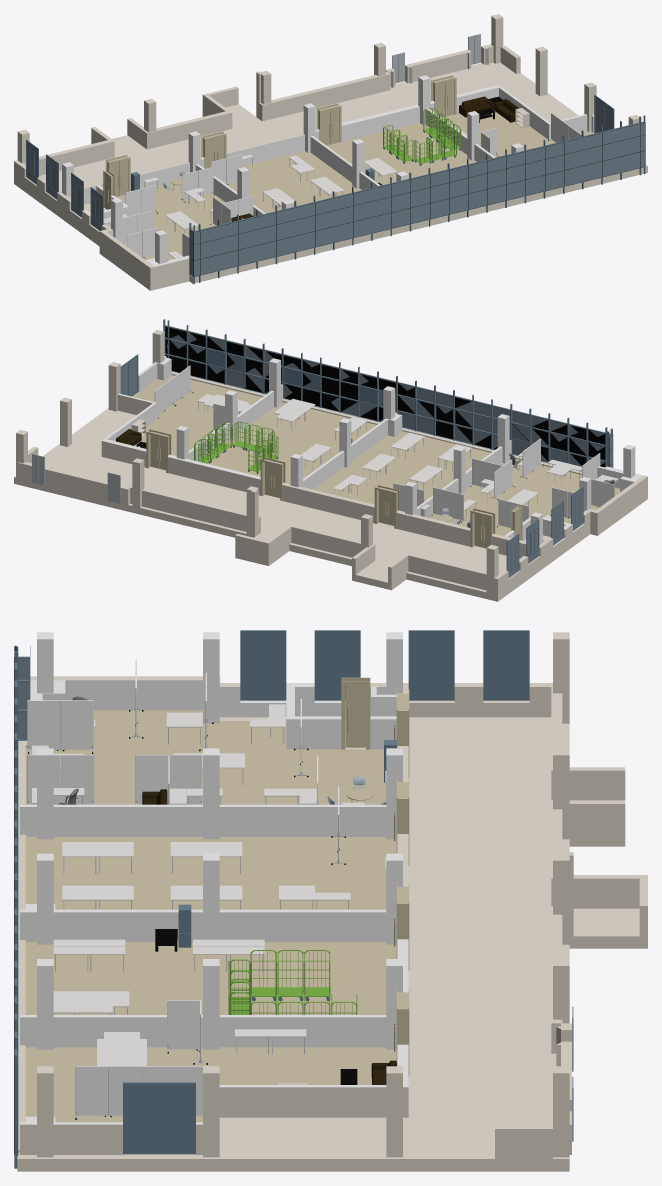
Rendered from office_20230425_03.glb.
3 views of the same model, one above another, from view 1: azimuth 30°, elevation 25°; view 2: azimuth 150°, elevation 25°; view 3: azimuth 270°, elevation 25° (orthographic). The views are drawn at different scales.
Visible parts, largest first — view 1: Rectangle034, Rectangle010, Rectangle510, Rectangle003, Rectangle134, Rectangle033, Line007, Rectangle035, Rectangle039, Rectangle135, Rectangle201, Line001 (+23 smaller); view 2: Rectangle010, Rectangle039, Rectangle035, Rectangle510, Rectangle034, Rectangle003, Rectangle033, Rectangle134, Line007, Rectangle135, Rectangle201, Rectangle001 (+29 smaller); view 3: Rectangle010, Rectangle134, Rectangle033, Line007, Rectangle014, Rectangle135, Rectangle001, Rectangle002, Line001, Rectangle201, Rectangle195, Rectangle290 (+50 smaller).
Part boxes in pixels (left/top/right/bottom): Rectangle034: left=189, top=122, right=645, bottom=276; Rectangle010: left=14, top=62, right=647, bottom=290; Rectangle510: left=23, top=44, right=493, bottom=175; Rectangle003: left=61, top=85, right=500, bottom=204; Rectangle134: left=226, top=151, right=361, bottom=213; Rectangle033: left=327, top=123, right=476, bottom=184; Line007: left=110, top=183, right=225, bottom=260; Rectangle035: left=189, top=115, right=645, bottom=284; Rectangle039: left=189, top=122, right=645, bottom=276; Rectangle135: left=442, top=112, right=593, bottom=157; Rectangle201: left=57, top=191, right=154, bottom=283; Line001: left=499, top=87, right=594, bottom=140; Rectangle010: left=14, top=392, right=647, bottom=601; Rectangle039: left=165, top=327, right=612, bottom=467; Rectangle035: left=163, top=319, right=613, bottom=471; Rectangle510: left=17, top=462, right=486, bottom=590; Rectangle034: left=166, top=332, right=613, bottom=470; Rectangle003: left=101, top=438, right=526, bottom=558; Rectangle033: left=207, top=401, right=376, bottom=483; Rectangle134: left=314, top=431, right=490, bottom=504; Line007: left=430, top=457, right=619, bottom=535; Rectangle135: left=133, top=375, right=262, bottom=456; Rectangle201: left=539, top=475, right=647, bottom=563; Rectangle001: left=303, top=412, right=397, bottom=489; Rectangle010: left=17, top=717, right=569, bottom=1171; Rectangle134: left=25, top=837, right=396, bottom=909; Rectangle033: left=25, top=942, right=396, bottom=1014; Line007: left=25, top=710, right=386, bottom=804; Rectangle014: left=20, top=804, right=386, bottom=836; Rectangle135: left=25, top=1047, right=396, bottom=1122; Rectangle001: left=20, top=909, right=386, bottom=941; Rectangle002: left=20, top=1015, right=386, bottom=1047; Line001: left=20, top=1085, right=386, bottom=1154; Rectangle201: left=30, top=676, right=408, bottom=717; Rectangle195: left=123, top=1082, right=195, bottom=1154; Rectangle290: left=240, top=630, right=286, bottom=700.
Size of the model in its own units: 3.85 by 0.4339 by 2.28.
